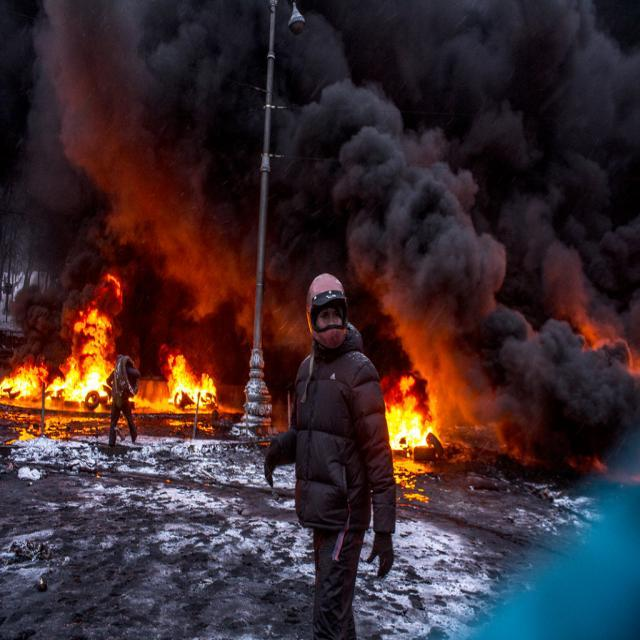Fire: (78, 347, 104, 403), (392, 422, 422, 454), (8, 374, 44, 398), (179, 383, 200, 406)
Smoke: (480, 23, 634, 183), (308, 123, 472, 236), (96, 31, 260, 125), (538, 344, 608, 442)
